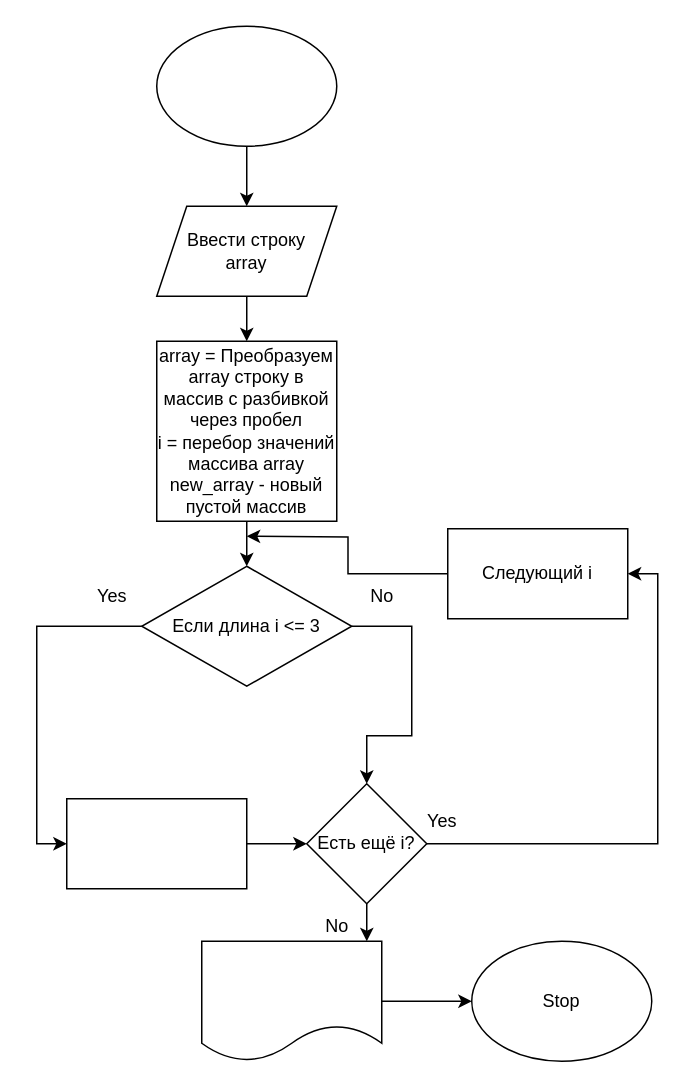
Some shapes in this 696 by 1088 pixel diagram are drawn without their labels. Each missing label, with the box of its shape:
new_array: (200, 940, 382, 1061)
Start: (155, 25, 337, 146)
Добавить i в массив new_array: (65, 797, 247, 889)
